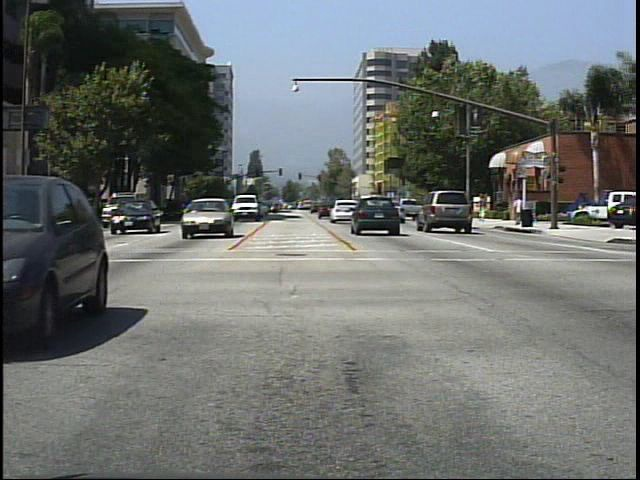person: (510, 194, 524, 229), (478, 190, 490, 224)
